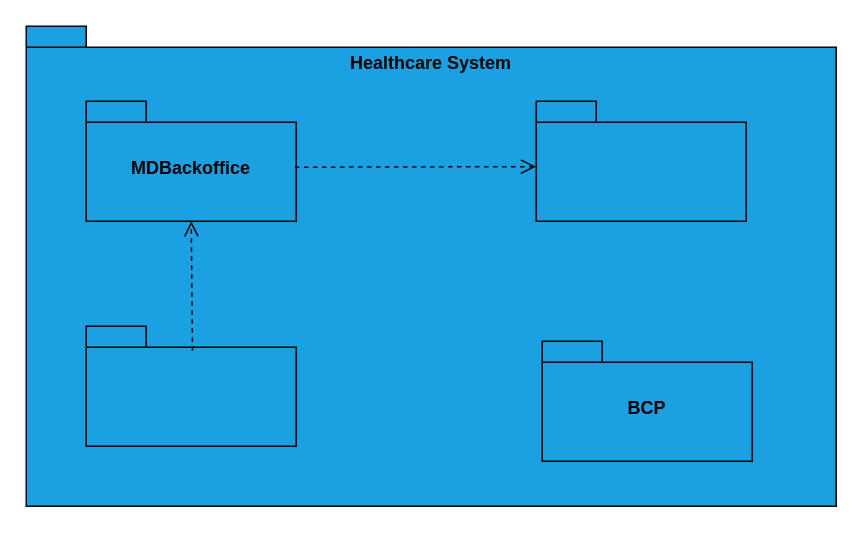
Some shapes in this 863 by 533 pixel diagram are drawn without their labels. Here are the shapes that lost their labels. From the top down, the box of each, then its label:
(535, 100, 746, 221): Planning
(85, 325, 296, 446): Visualization
